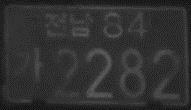2: (152, 48, 181, 101), (84, 48, 113, 98), (55, 48, 79, 98)
4: (127, 10, 148, 38)
8: (119, 47, 146, 97), (102, 12, 124, 39)
가: (11, 46, 46, 84)
전남_O: (44, 12, 94, 36)
